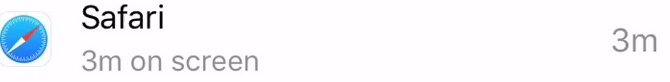name: (76, 2, 178, 40)
time: (78, 46, 130, 82)
